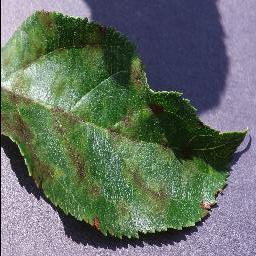apple healthy: (0, 8, 248, 241)
